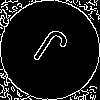J: (25, 25, 71, 78)
